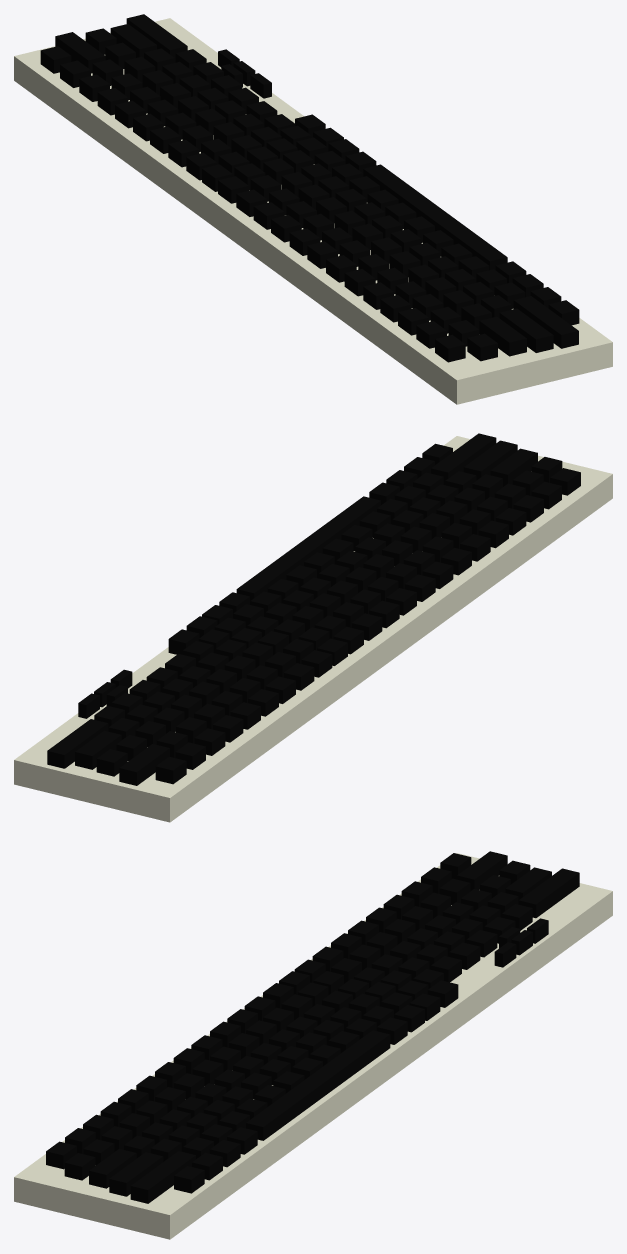
The model's file is Computer_Keyboard.fbx.
3 renders of one model, top to bottom at view 1: azimuth 30°, elevation 25°; view 2: azimuth 150°, elevation 25°; view 3: azimuth 330°, elevation 25°, orthographic.
Visible parts, largest first — view 1: Computer_Keyboard; view 2: Computer_Keyboard; view 3: Computer_Keyboard.
Boxes of the visible parts, bbox=[...] form: Computer_Keyboard: bbox=[14, 14, 612, 404]; Computer_Keyboard: bbox=[14, 433, 612, 822]; Computer_Keyboard: bbox=[14, 851, 612, 1239].
Bounding box in the file's own units: 15.27 × 3.57 × 75.
